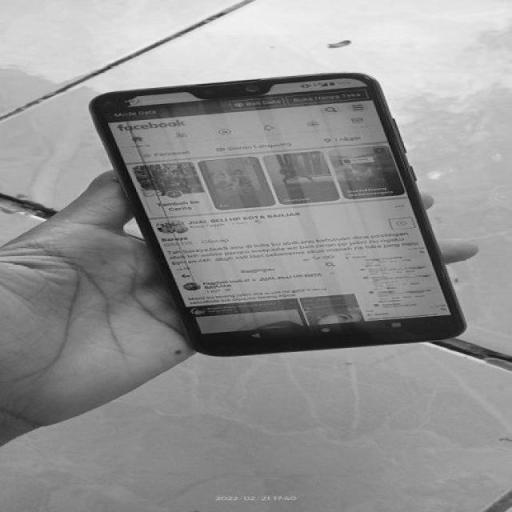phone: (90, 73, 463, 356)
